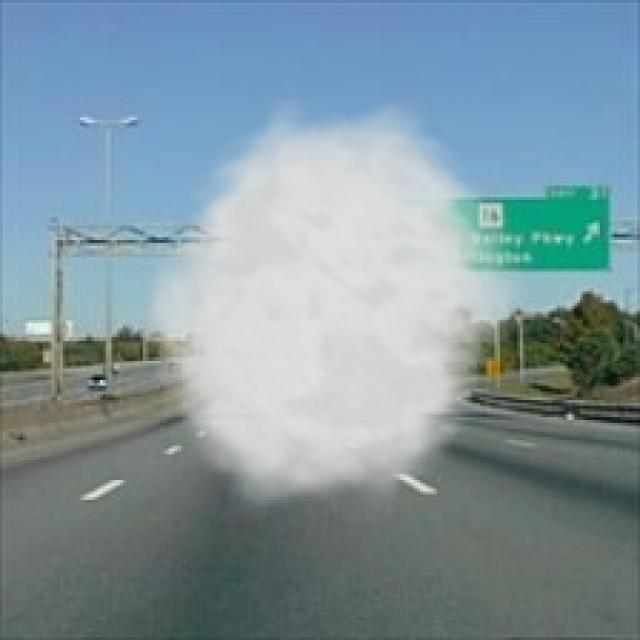smoke: (134, 97, 532, 523)
